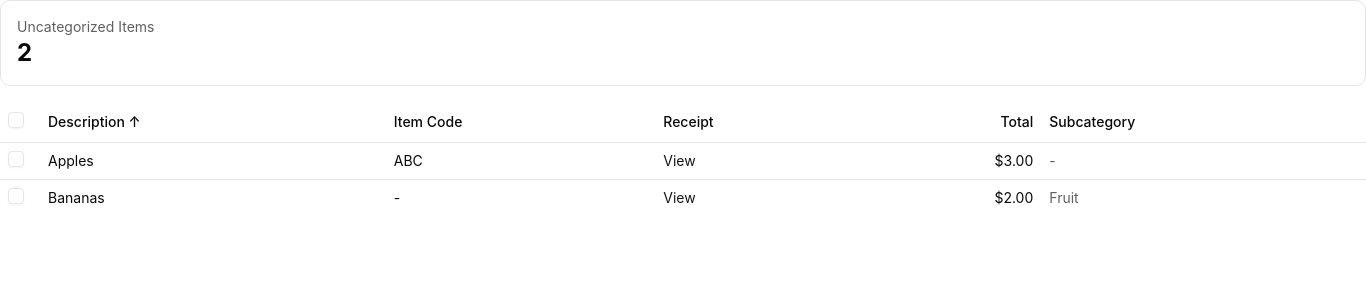
UncategorizedItems › selects all items when select-all checkbox is clicked
Click the checkbox named "Select all items on this page".
click(16, 120)  # box [8,112,24,128]
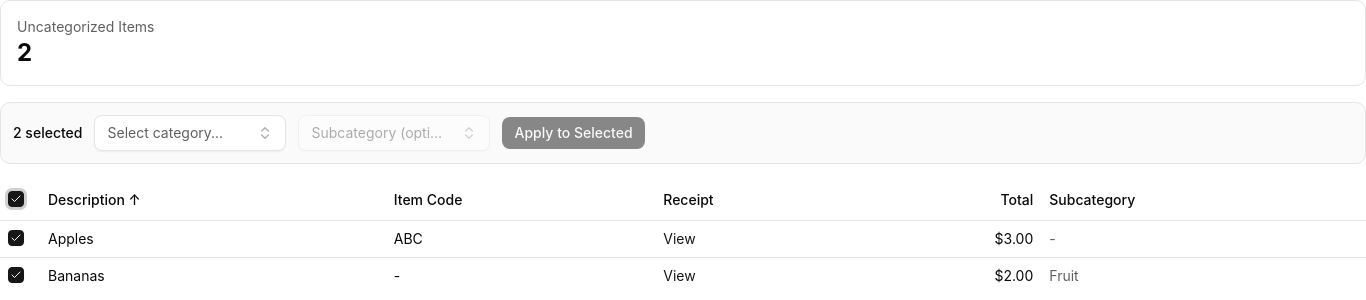
Expected: the text "2 selected" is shown, [13,123,82,143]
